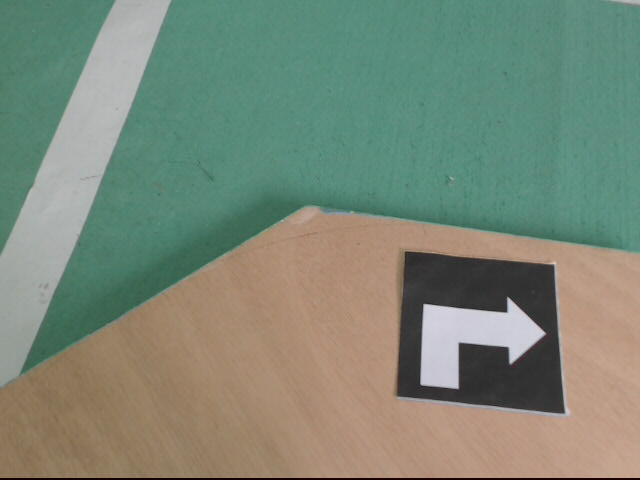right: (393, 251, 566, 414)
